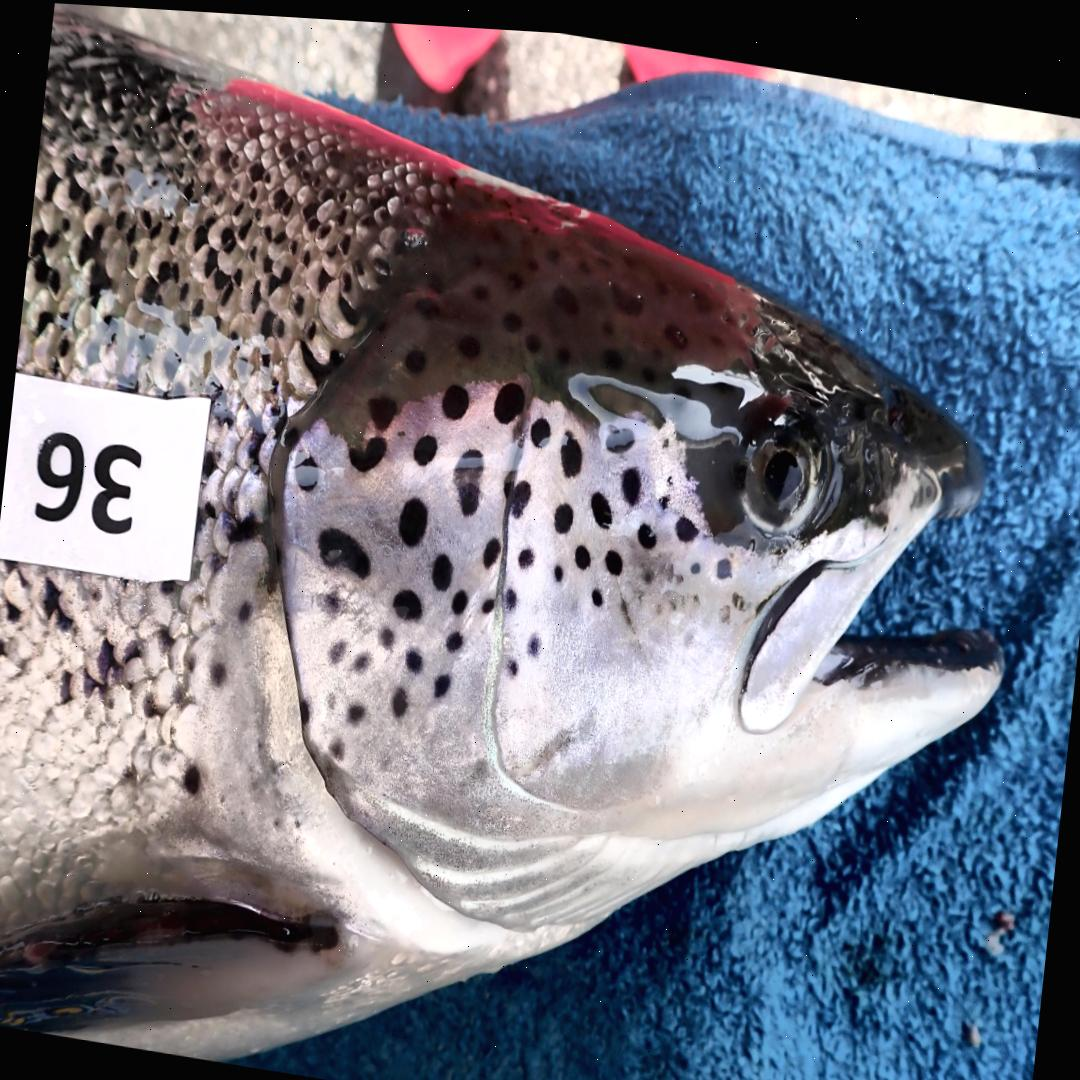spot: (318, 523, 370, 573), (453, 443, 483, 509), (397, 491, 427, 542), (492, 375, 525, 417), (348, 429, 385, 466), (292, 445, 321, 487), (312, 584, 346, 616), (559, 425, 582, 471), (441, 378, 469, 414), (368, 392, 398, 425), (391, 583, 422, 614), (326, 632, 354, 664), (430, 549, 453, 586), (509, 473, 531, 511), (590, 483, 612, 521), (620, 459, 640, 498), (604, 418, 634, 444), (502, 447, 516, 502), (413, 428, 437, 460), (528, 409, 551, 440), (552, 496, 573, 526), (481, 530, 500, 563), (675, 506, 698, 533), (636, 514, 656, 542), (391, 683, 408, 713), (345, 697, 366, 721), (403, 643, 423, 668), (326, 733, 346, 758), (525, 626, 542, 653), (604, 542, 622, 567), (432, 668, 450, 692), (573, 537, 590, 562), (451, 585, 468, 609), (445, 626, 463, 647), (716, 548, 732, 571), (353, 647, 370, 668), (378, 621, 394, 643), (730, 582, 748, 601), (503, 581, 517, 605), (517, 541, 533, 562), (503, 652, 517, 671), (590, 582, 603, 600), (480, 592, 495, 607), (299, 697, 308, 722), (718, 595, 730, 613), (689, 552, 703, 567), (552, 558, 563, 576), (658, 486, 669, 500), (643, 562, 651, 574), (662, 428, 669, 439), (666, 466, 671, 477)
